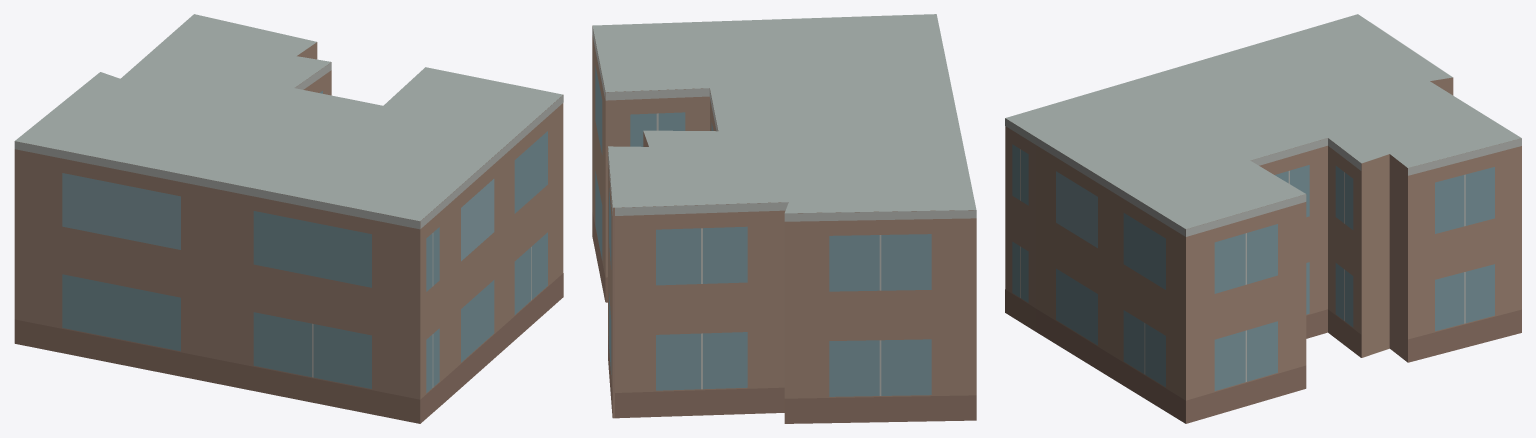
Rendered from survey-upis-32969850.glb.
The picture shows the model from 3 angles, left to right: view 1: azimuth 30°, elevation 25°; view 2: azimuth 150°, elevation 25°; view 3: azimuth 270°, elevation 25°; orthographic projection. The views are drawn at different scales.
Parts seen in each view (by area): view 1: survey-upis-32969850.tmp; view 2: survey-upis-32969850.tmp; view 3: survey-upis-32969850.tmp.
Boxes of the visible parts, left/top/right/bottom form: survey-upis-32969850.tmp: left=14, top=14, right=563, bottom=423; survey-upis-32969850.tmp: left=592, top=14, right=976, bottom=423; survey-upis-32969850.tmp: left=1005, top=14, right=1521, bottom=423.
Bounding box in the file's own units: 14.48 × 6.1 × 14.68.
